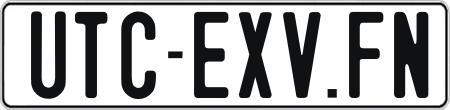C: (119, 10, 160, 99)
E: (191, 10, 228, 97)
F: (346, 10, 381, 96)
N: (391, 9, 431, 99)
T: (73, 12, 109, 102)
U: (28, 10, 65, 102)
V: (282, 9, 321, 97)
X: (239, 9, 273, 100)
